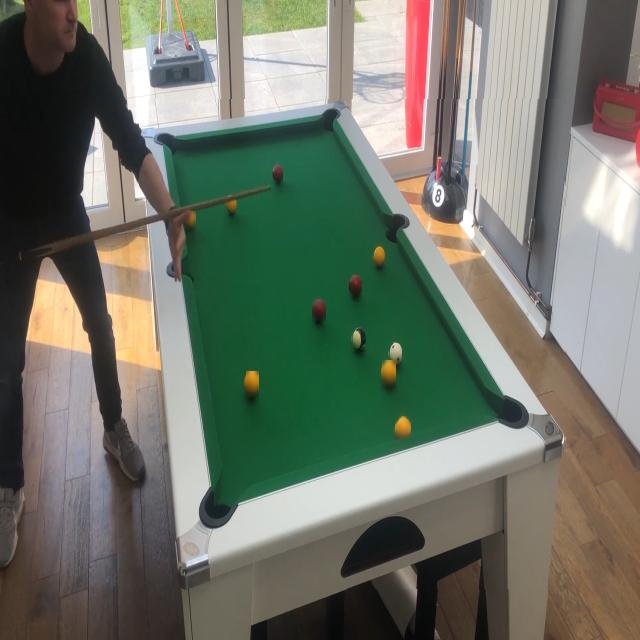Ball: (382, 360, 397, 388), (352, 326, 366, 352), (246, 372, 259, 398), (396, 416, 411, 438), (312, 299, 326, 321), (389, 343, 402, 365), (373, 246, 386, 268), (350, 275, 362, 297), (186, 211, 196, 230), (274, 165, 283, 183), (226, 200, 237, 214)
Billiard table: (140, 99, 566, 589)
